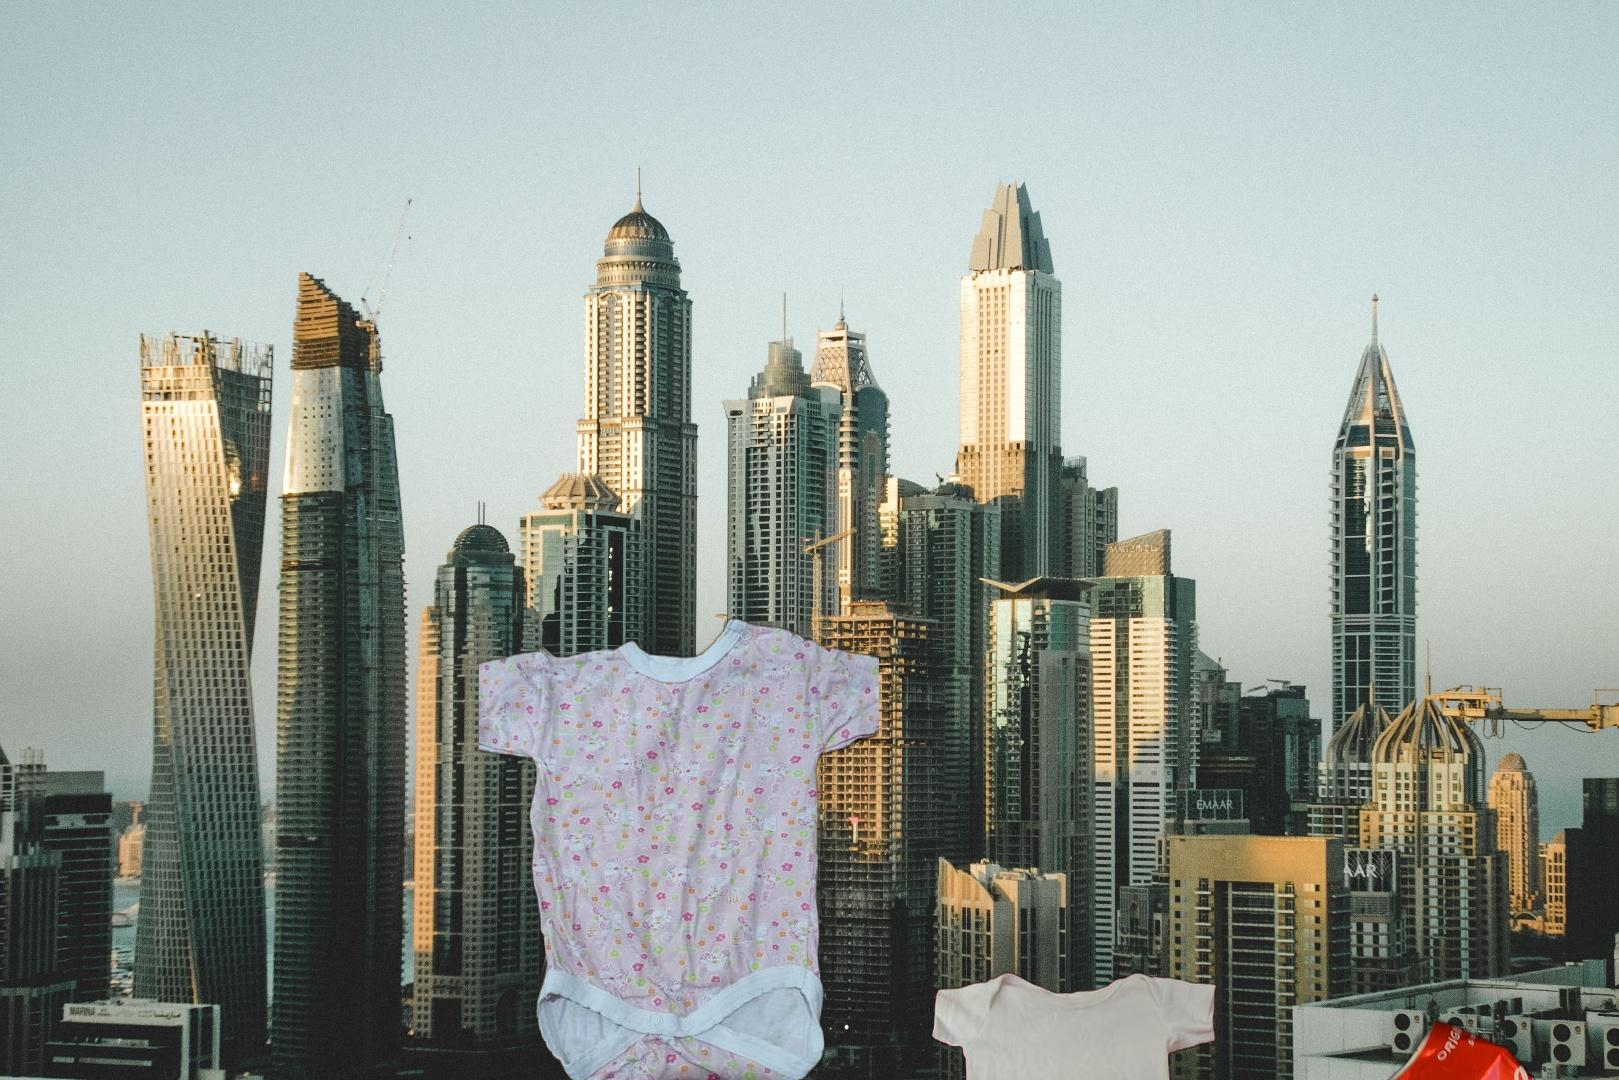clothes: (479, 612, 879, 1080), (928, 968, 1220, 1080)
metal-cans: (1380, 1012, 1600, 1080)
shoes: (549, 705, 747, 839)
